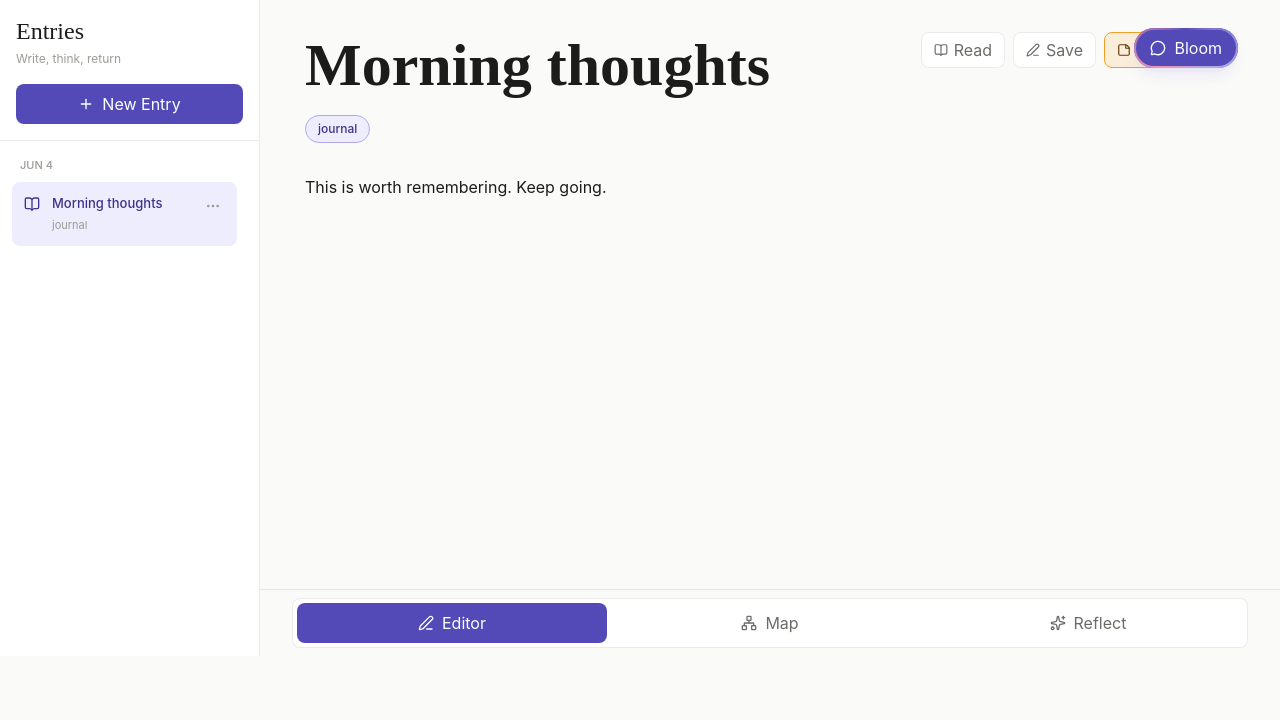
Scenario: JournalWorkspace › streams Bloom messages with Enter and stores the assistant reply
Click the button with aria-label "Open Bloom assistant" at x=1186, y=48, box [1134, 28, 1238, 68]
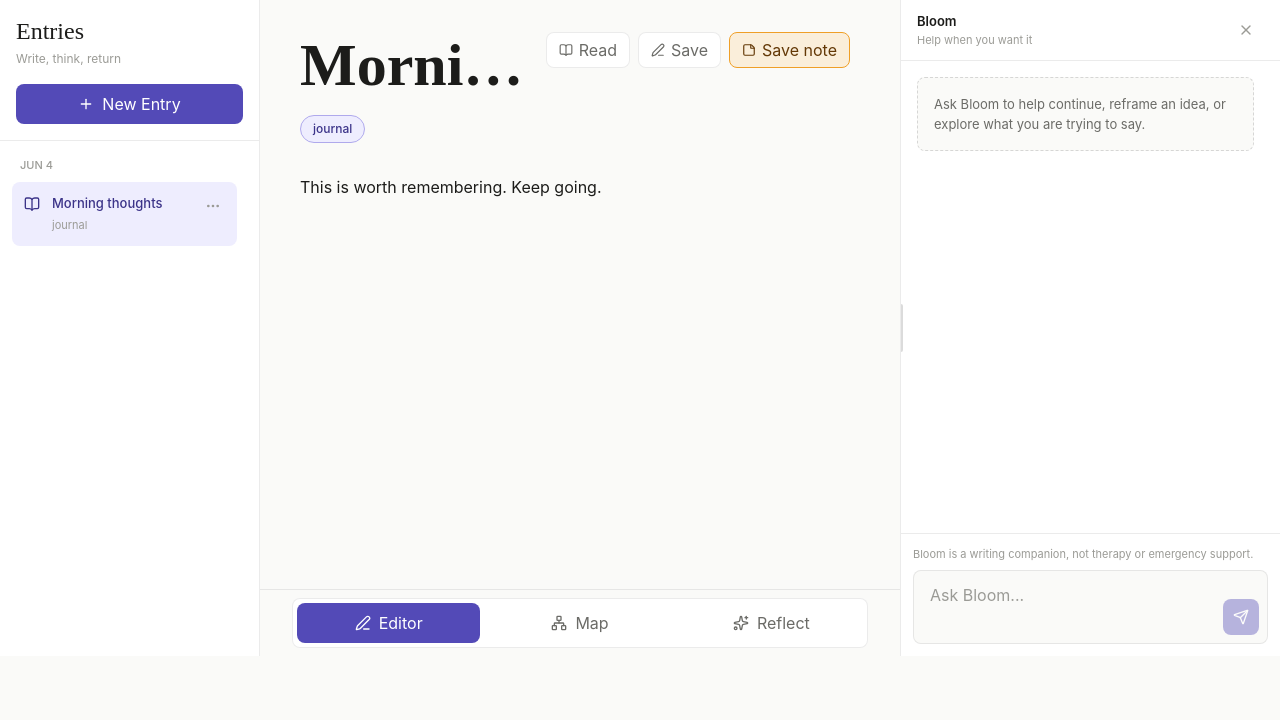
Type "Help me continue" into the text box labelled "Ask Bloom" at x=1068, y=607, box [922, 579, 1215, 635]
Then press Enter
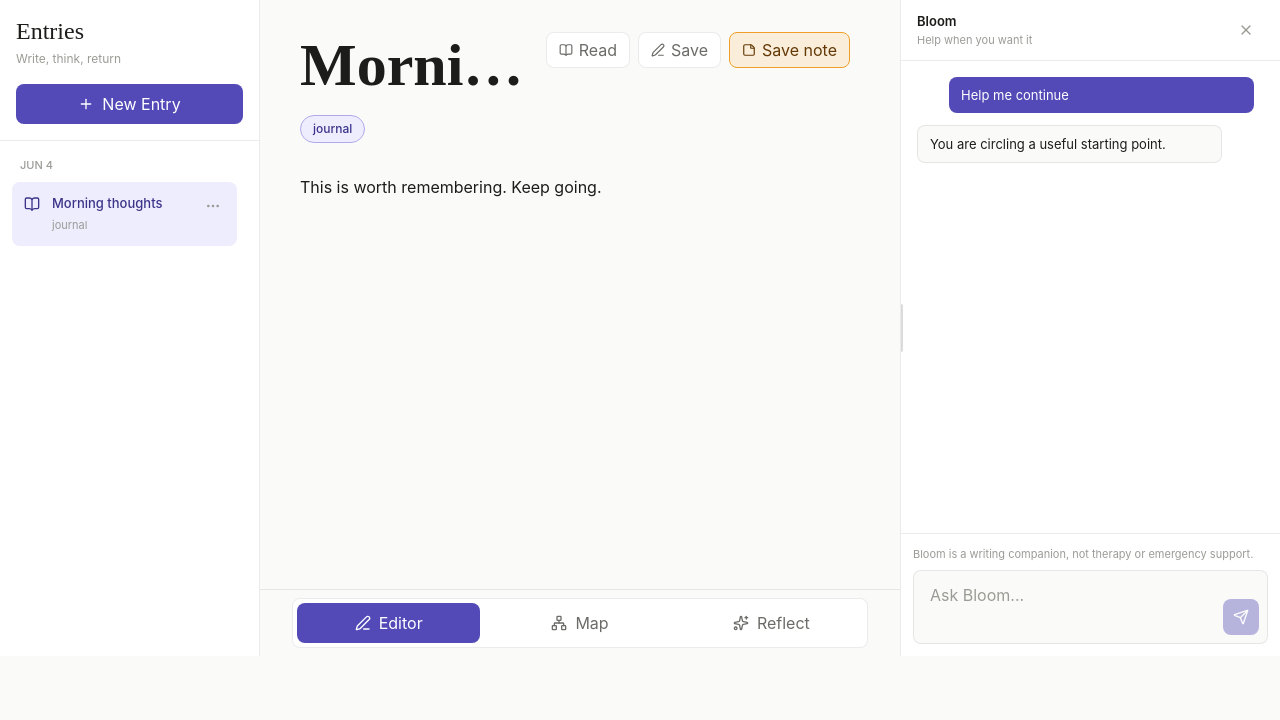
Expected: the text "You are circling a useful starting point." is shown, [917, 125, 1222, 163]
